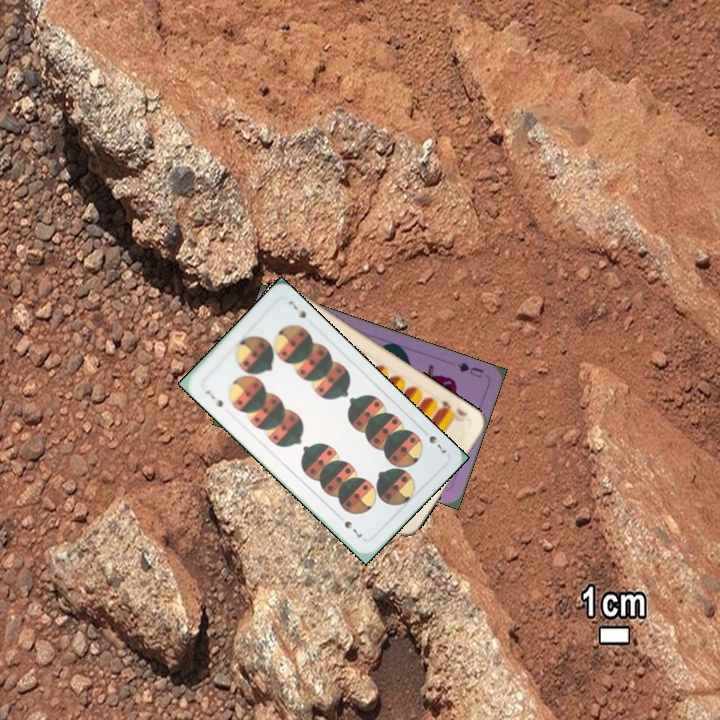E10: (436, 396, 470, 419)
GU: (454, 358, 486, 380)
S7: (417, 425, 449, 457), (201, 386, 226, 410)
